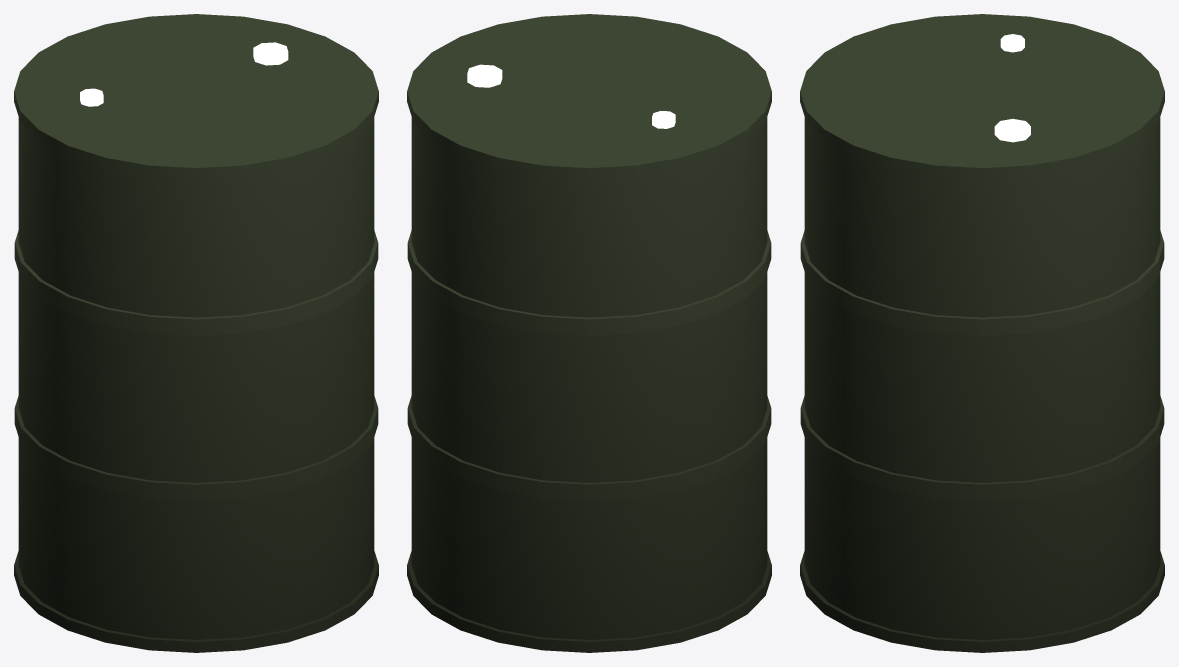
Rendered from fuel_drum.glb.
The picture shows the model from 3 angles, left to right: view 1: azimuth 30°, elevation 25°; view 2: azimuth 150°, elevation 25°; view 3: azimuth 270°, elevation 25°; orthographic projection.
Visible parts, largest first — view 1: fuel_drum_LOD0; view 2: fuel_drum_LOD0; view 3: fuel_drum_LOD0.
Boxes of the visible parts, x1,y1,x2,y2 form: fuel_drum_LOD0: (14,14,378,652); fuel_drum_LOD0: (407,14,771,652); fuel_drum_LOD0: (800,14,1164,652).
Size of what is drawn, in the model's own units: 0.6 by 0.895 by 0.6.
